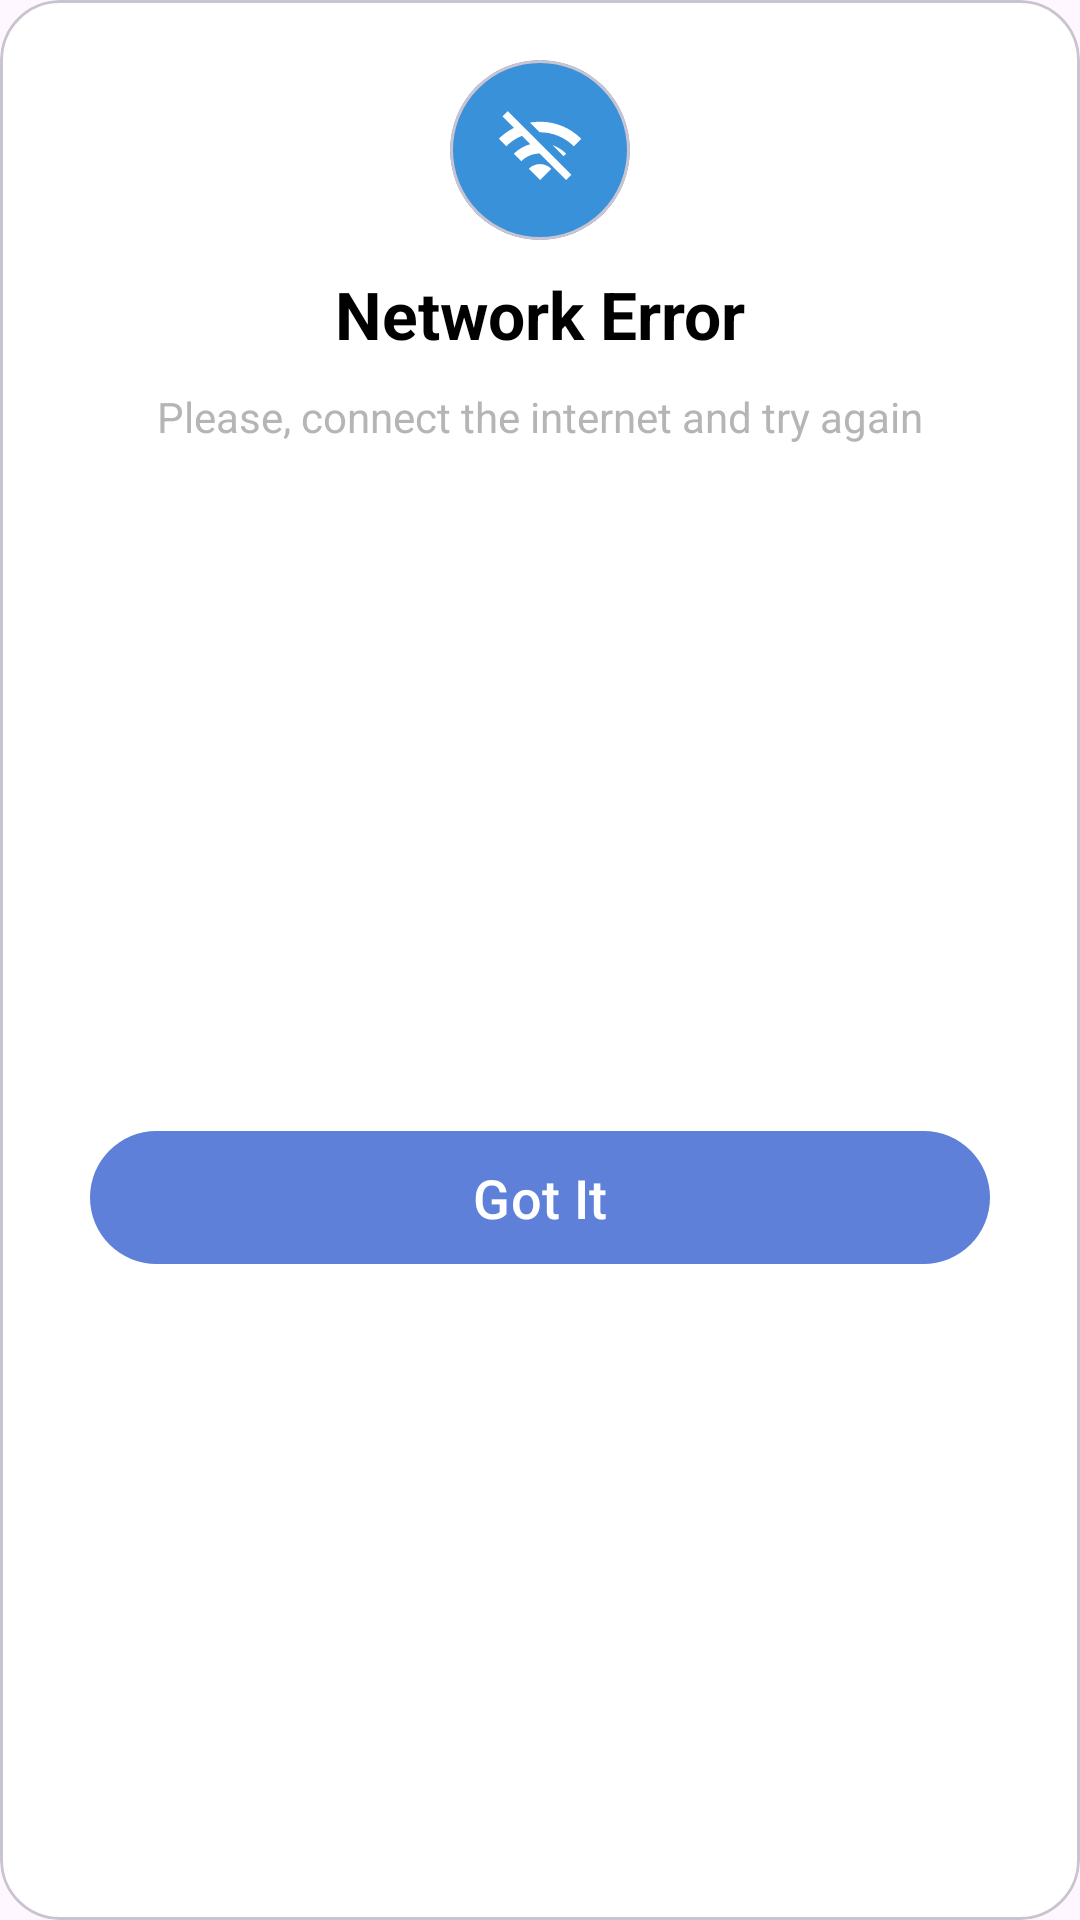

Icon click points for this 1080px×1920px phone screenshot, format (x,y):
wifi off: (540,145)
